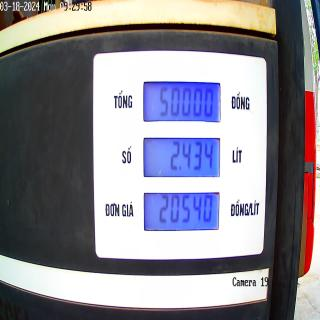screen: (140, 72, 222, 236)
